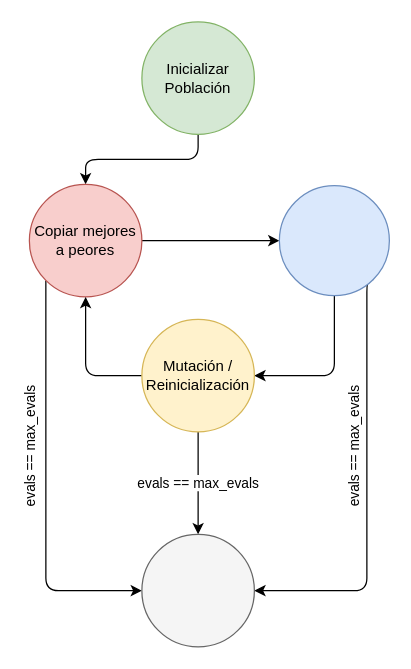
Some shapes in this 411 by 669 pixel diagram are drawn without their labels. Here are the shapes that lost their labels. From the top down, the centre of each, then its label:
At point 333,240: "Búsqueda Local Limitada".
At point 197,590: "Devolver mejor Solución Encontrada".
